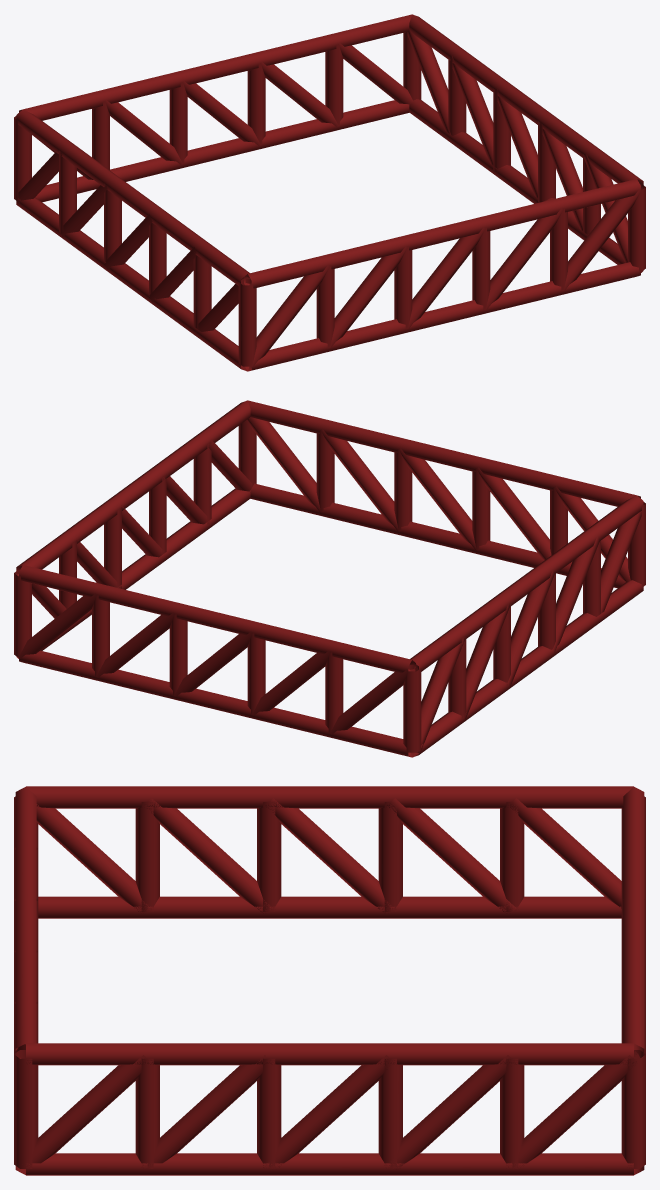
Rendered from andamio15.DAE.
3 renders of one model, top to bottom at view 1: azimuth 30°, elevation 25°; view 2: azimuth 150°, elevation 25°; view 3: azimuth 270°, elevation 25°, orthographic. The views are drawn at different scales.
Parts seen in each view (by area): view 1: andamio15; view 2: andamio15; view 3: andamio15.
Part boxes in pixels (<box>): andamio15: <box>14,14,645,371</box>; andamio15: <box>14,400,645,757</box>; andamio15: <box>14,786,645,1175</box>.
Size of the model in its own units: 15.52 by 3.6 by 15.6.
